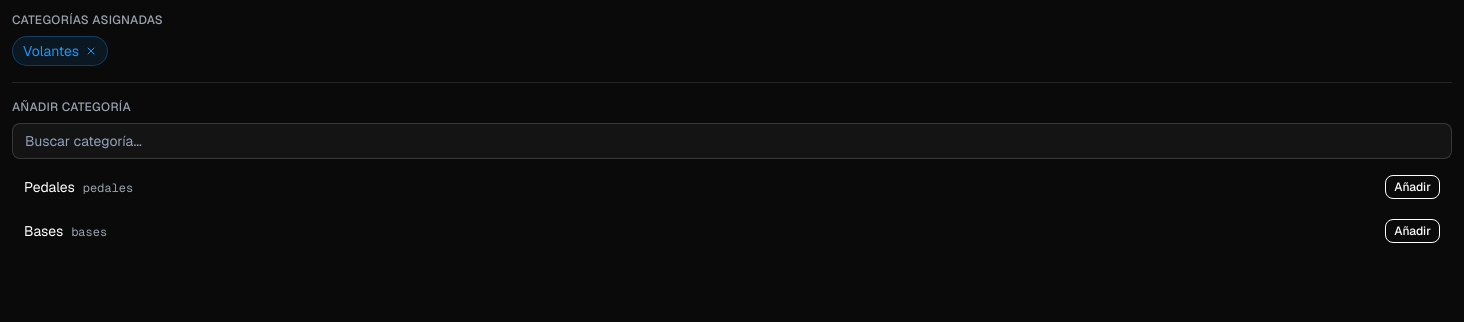
Scenario: CategoryAssignPanel › quitar categoría › muestra error si setCategories falla al quitar
The width and height of the screenshot is (1464, 322).
Expected: the text "Volantes" is shown, [12,36,108,66]
Step 1. Click the button named "Quitar Volantes" → (91, 51), box [85,45,97,57]
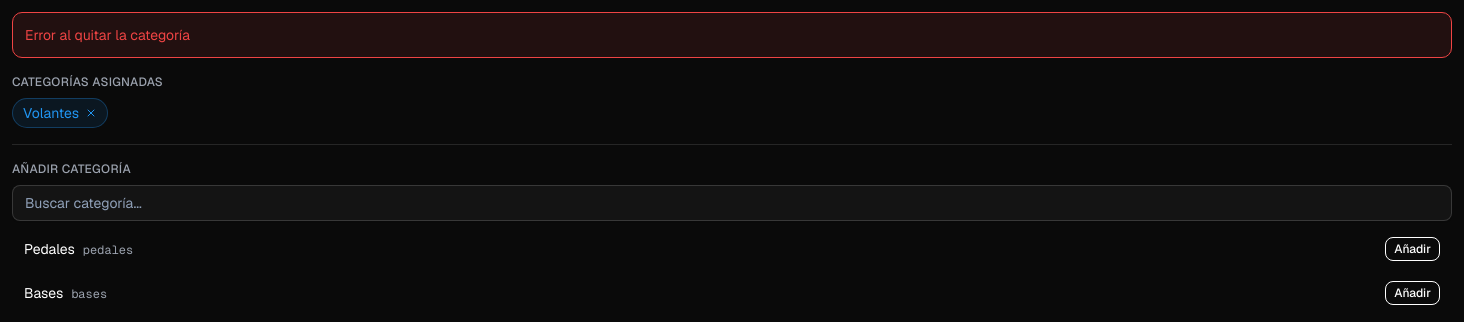
Now the text "Error al quitar la categoría" is shown, box [12,12,1452,58]
